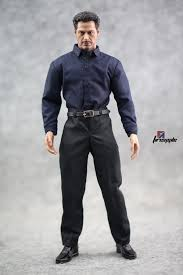F_belt: (62, 106, 115, 121)
F_dress pants: (57, 117, 133, 248)
